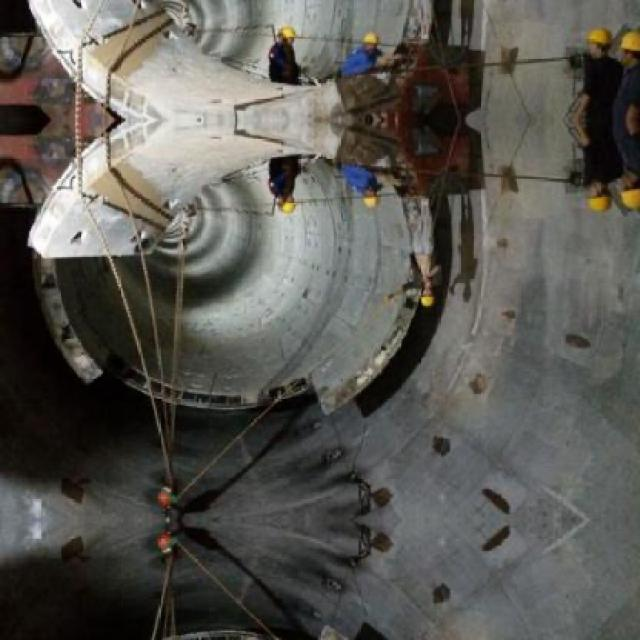con casco: (408, 272, 451, 320), (358, 177, 386, 224), (264, 192, 298, 216)
